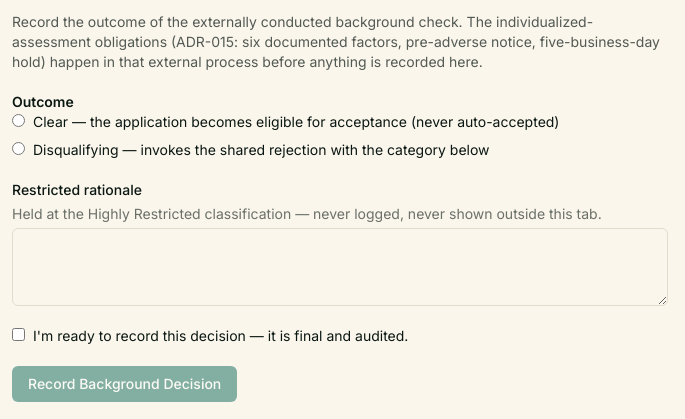
BackgroundPanel (Story 2.10) › requires outcome, rationale, and confirmation before recording
Expected: the button "Record Background Decision" is disabled, left=12, top=366, right=237, bottom=402
Click the radio button labelled "Clear — the application" at point(18, 120), box left=12, top=114, right=25, bottom=127
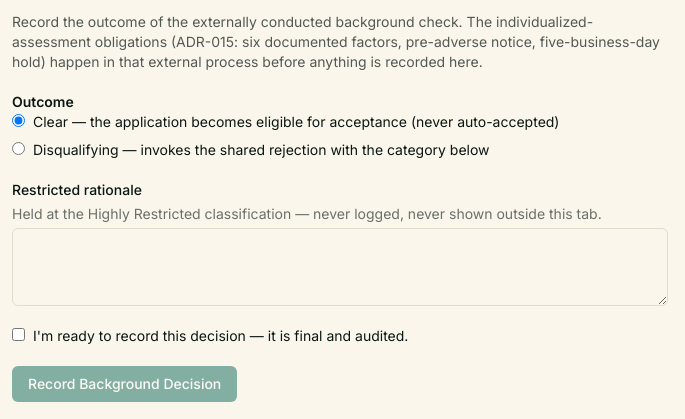
Expected: the button "Record Background Decision" is disabled, left=12, top=366, right=237, bottom=402
Click the checkbox labelled "I'm ready to record this decision — it is final and audited." at point(18, 334), box left=12, top=328, right=25, bottom=341
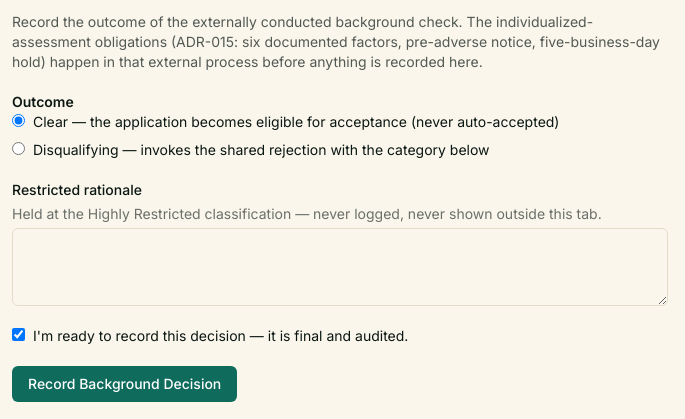
Expected: the button "Record Background Decision" is enabled, left=12, top=366, right=237, bottom=402
